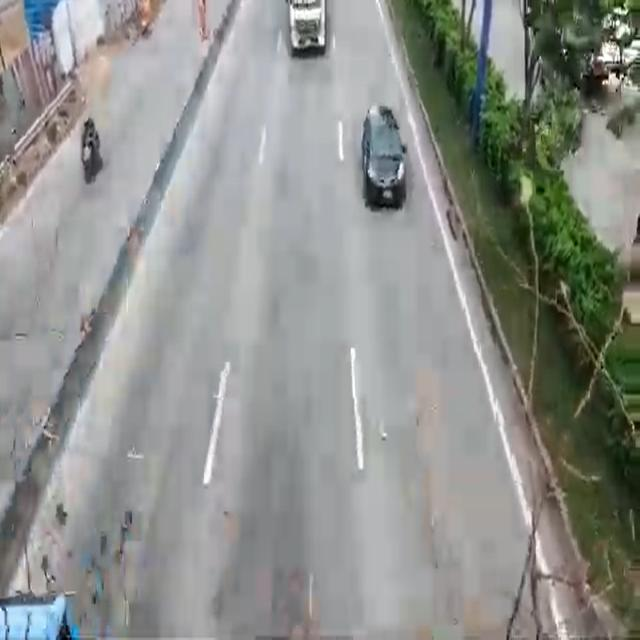car: (357, 103, 406, 219)
motor: (80, 133, 102, 183)
